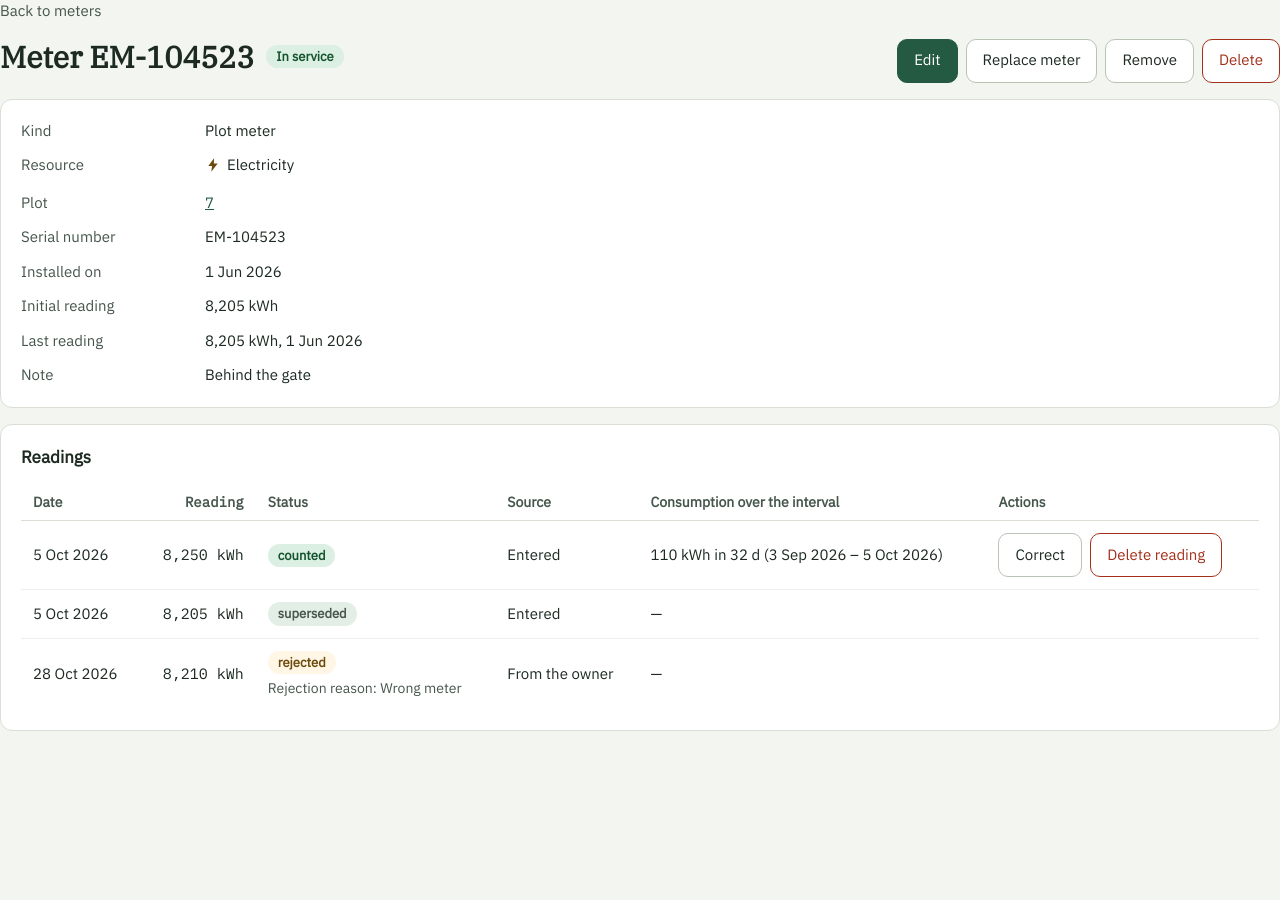
it: MeterPage › offers replacement to a manager of an active meter and opens the dialog with the wrap-around hint
Click the button "Replace meter" at (1031, 60), box [966, 38, 1097, 82]
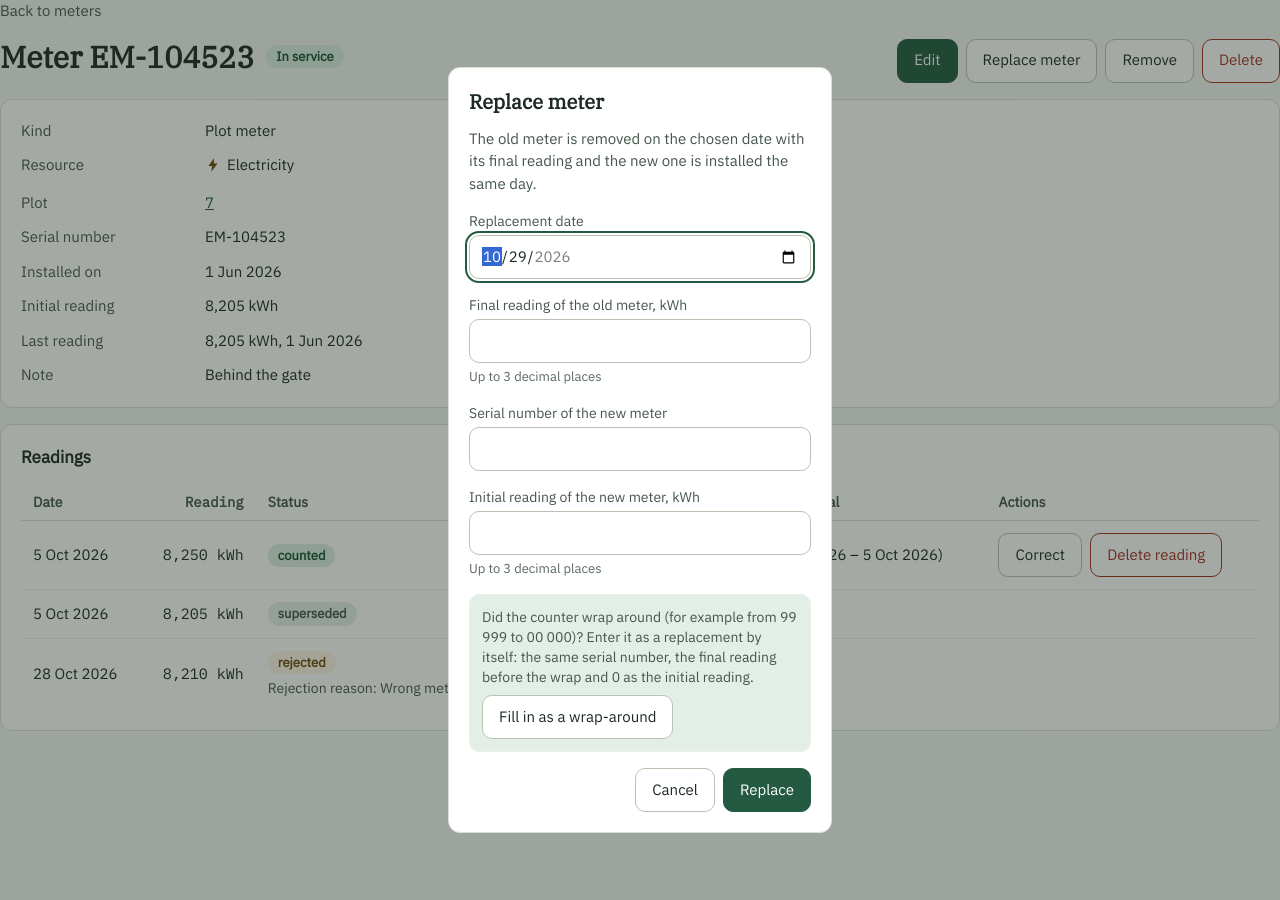
Expected: the dialog is shown, [448, 67, 832, 833]
Expected: the text "Did the counter wrap around" is shown, [482, 608, 797, 686]
